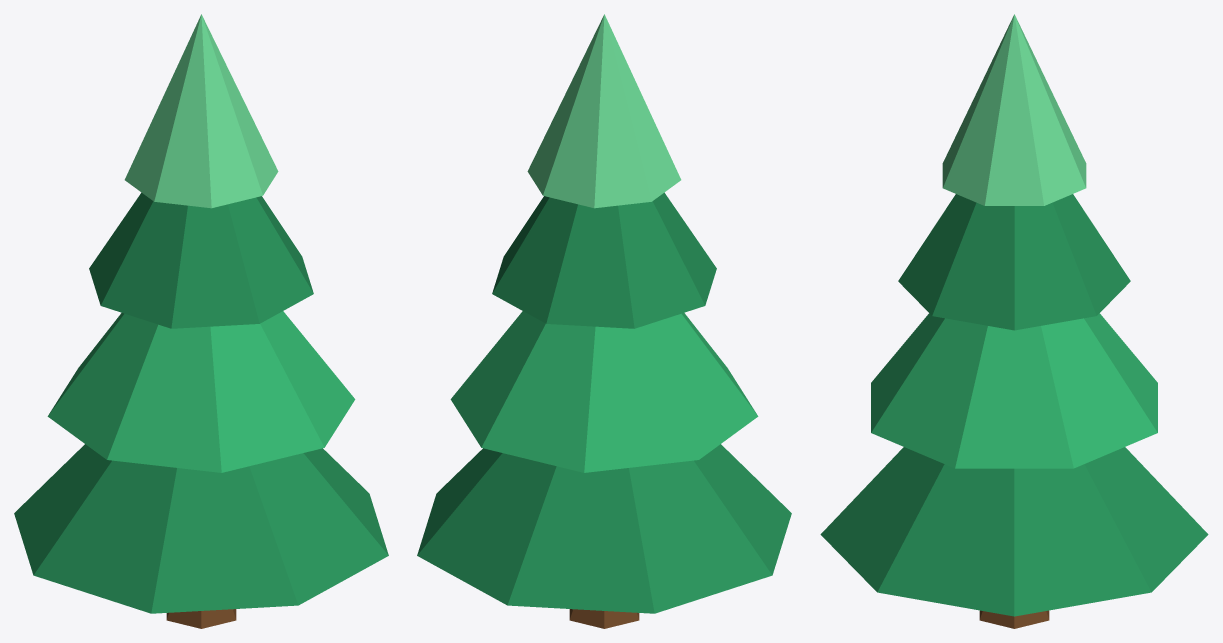
Rendered from tree_pine.glb.
The picture shows the model from 3 angles, left to right: view 1: azimuth 30°, elevation 25°; view 2: azimuth 150°, elevation 25°; view 3: azimuth 270°, elevation 25°; orthographic projection.
Parts seen in each view (by area): view 1: tree_pine; view 2: tree_pine; view 3: tree_pine.
Boxes of the visible parts, box(x1,y1,x2,y2) form: tree_pine: box(14, 14, 388, 628); tree_pine: box(417, 14, 791, 628); tree_pine: box(820, 14, 1208, 628).
Size of the model in its own units: 0.5 by 0.85 by 0.5.
